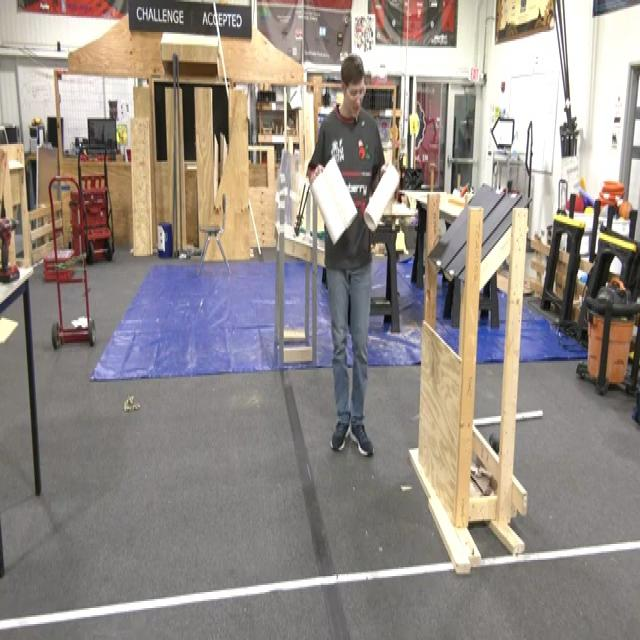Coral: (322, 157, 358, 231), (311, 173, 346, 246), (363, 164, 399, 231)
